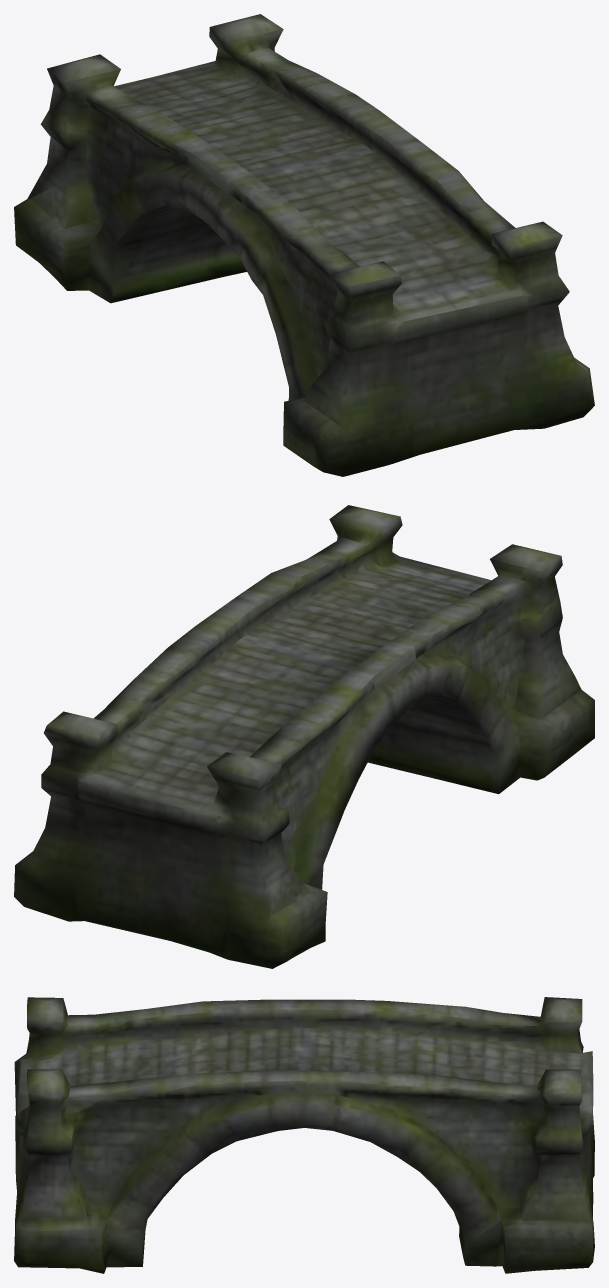
File: bridge_lod1.glb
3 renders of one model, top to bottom at view 1: azimuth 30°, elevation 25°; view 2: azimuth 150°, elevation 25°; view 3: azimuth 270°, elevation 25°, orthographic. The views are drawn at different scales.
Parts seen in each view (by area): view 1: bridge_lod1; view 2: bridge_lod1; view 3: bridge_lod1.
Boxes of the visible parts, bbox=[...] form: bridge_lod1: bbox=[14, 14, 594, 476]; bridge_lod1: bbox=[14, 505, 594, 968]; bridge_lod1: bbox=[14, 997, 594, 1273].
Bounding box in the file's own units: 3.95 × 2.77 × 7.96.
Materials: 1 (1 with a texture image).
